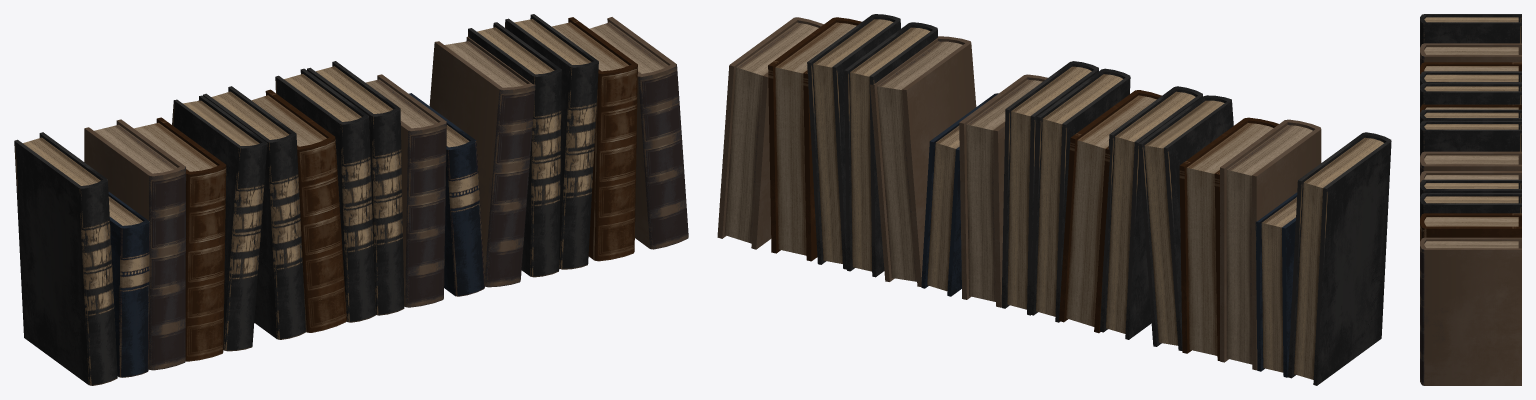
Rendered from mdl_hub_books.gltf.
The picture shows the model from 3 angles, left to right: view 1: azimuth 30°, elevation 25°; view 2: azimuth 150°, elevation 25°; view 3: azimuth 270°, elevation 25°; orthographic projection. The views are drawn at different scales.
Parts seen in each view (by area): view 1: books_0; view 2: books_0; view 3: books_0.
Boxes of the visible parts, left/top/right/bottom form: books_0: left=14, top=14, right=688, bottom=385; books_0: left=717, top=14, right=1391, bottom=385; books_0: left=1420, top=14, right=1521, bottom=385.
Size of the model in its own units: 1.32 by 0.4191 by 0.2546.
5 materials, 5 textured.
